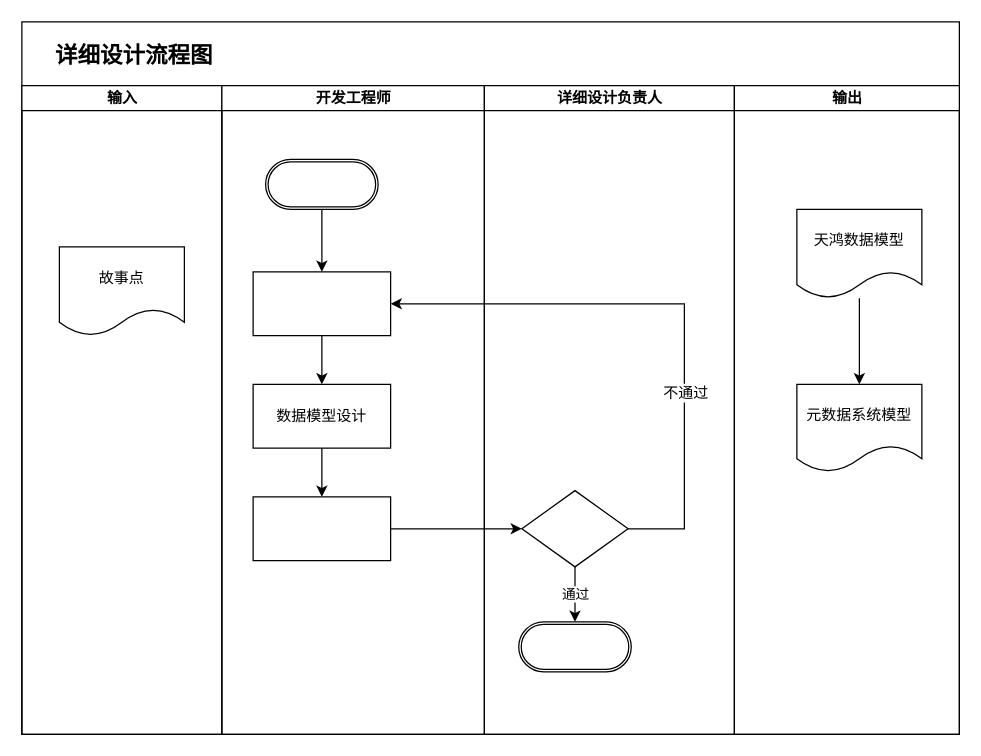
Image size: 981x756. Some labels were removed from this diagram. The centre of each missing label's shape, as x and y in pixels:
功能设计: (x=321, y=303)
审核: (x=574, y=528)
开始: (x=321, y=183)
接口设计: (x=321, y=528)
结束: (x=574, y=646)
